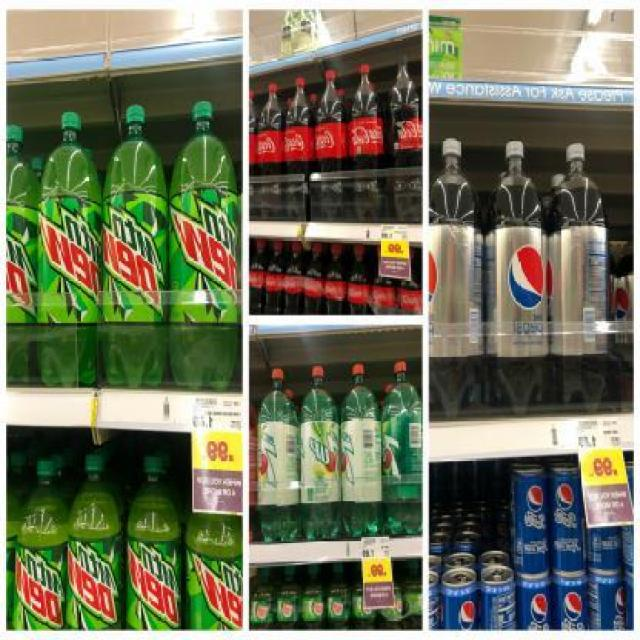Drinks: (166, 98, 240, 390), (99, 102, 167, 388), (37, 111, 100, 389), (487, 139, 548, 413), (549, 143, 611, 412), (428, 136, 484, 419), (185, 445, 242, 632), (12, 456, 66, 632), (126, 454, 179, 631), (67, 455, 119, 631), (256, 369, 299, 543), (340, 364, 382, 538), (381, 360, 422, 535), (298, 366, 338, 540), (348, 64, 387, 221), (386, 53, 422, 222), (314, 69, 348, 220), (548, 462, 588, 576), (510, 460, 548, 577), (286, 77, 314, 220), (258, 83, 285, 220), (370, 246, 396, 314), (323, 243, 346, 315), (347, 243, 370, 314), (303, 240, 325, 314), (282, 240, 304, 314), (397, 248, 421, 315), (248, 238, 267, 317), (265, 238, 283, 316)
